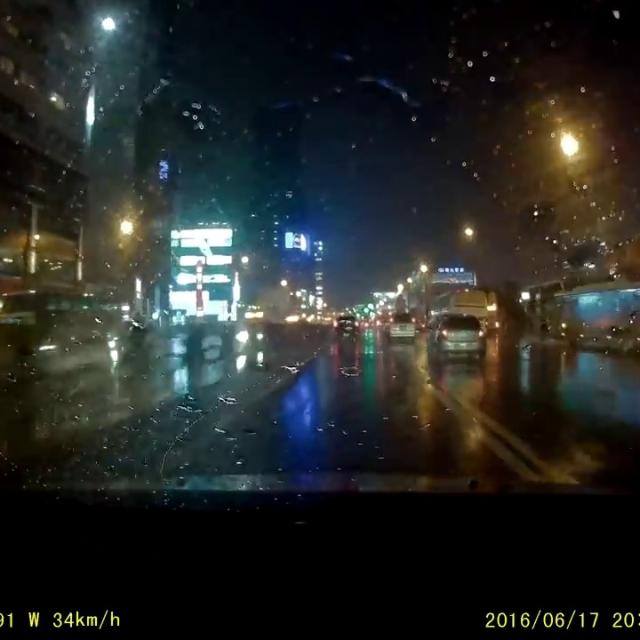Car: (427, 312, 486, 363), (384, 309, 413, 339), (334, 313, 356, 336)
